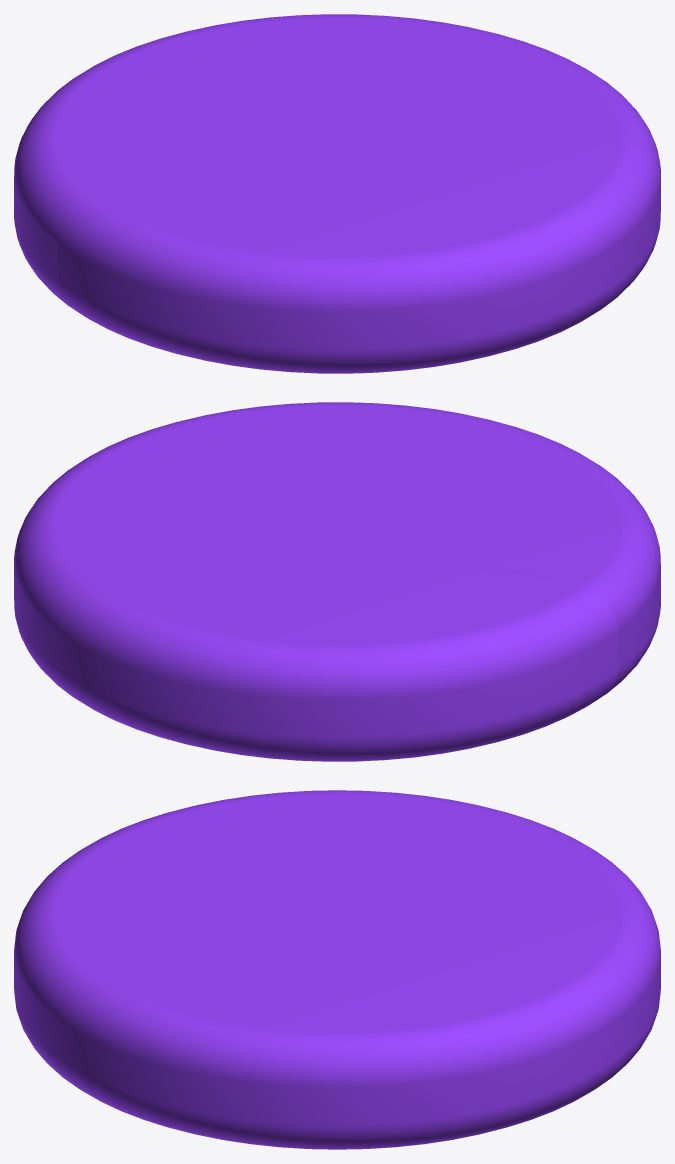
Rendered from pedestal.glb.
3 views of the same model, one above another, from view 1: azimuth 30°, elevation 25°; view 2: azimuth 150°, elevation 25°; view 3: azimuth 270°, elevation 25° (orthographic).
Parts seen in each view (by area): view 1: Pedestal_Export; view 2: Pedestal_Export; view 3: Pedestal_Export.
Boxes of the visible parts, left/top/right/bottom form: Pedestal_Export: left=14, top=14, right=660, bottom=373; Pedestal_Export: left=14, top=402, right=660, bottom=761; Pedestal_Export: left=14, top=790, right=660, bottom=1149.
Bounding box in the file's own units: 3.1 × 0.6 × 3.1.
